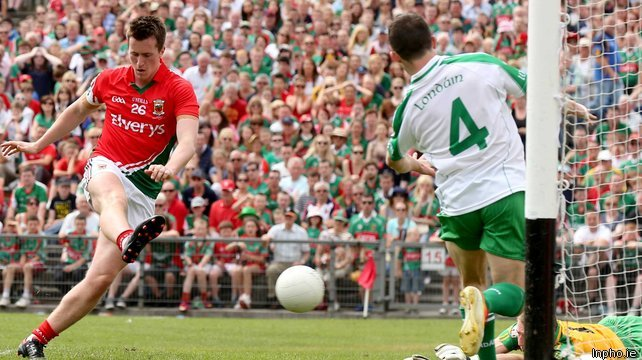ball: (278, 266, 329, 313)
player: (363, 5, 554, 332), (59, 16, 207, 300)
